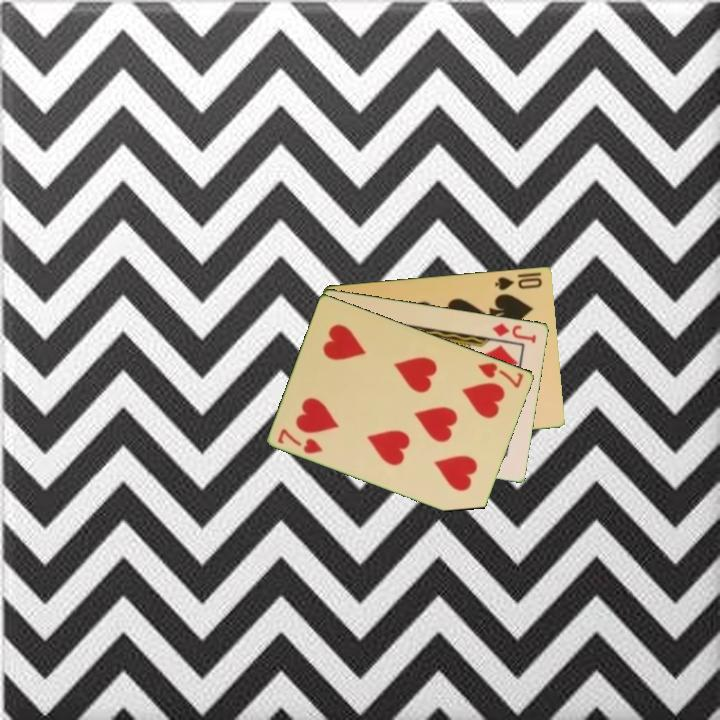10s: (492, 273, 545, 293)
7h: (474, 359, 527, 391), (274, 425, 326, 457)
Jd: (489, 319, 539, 346)
